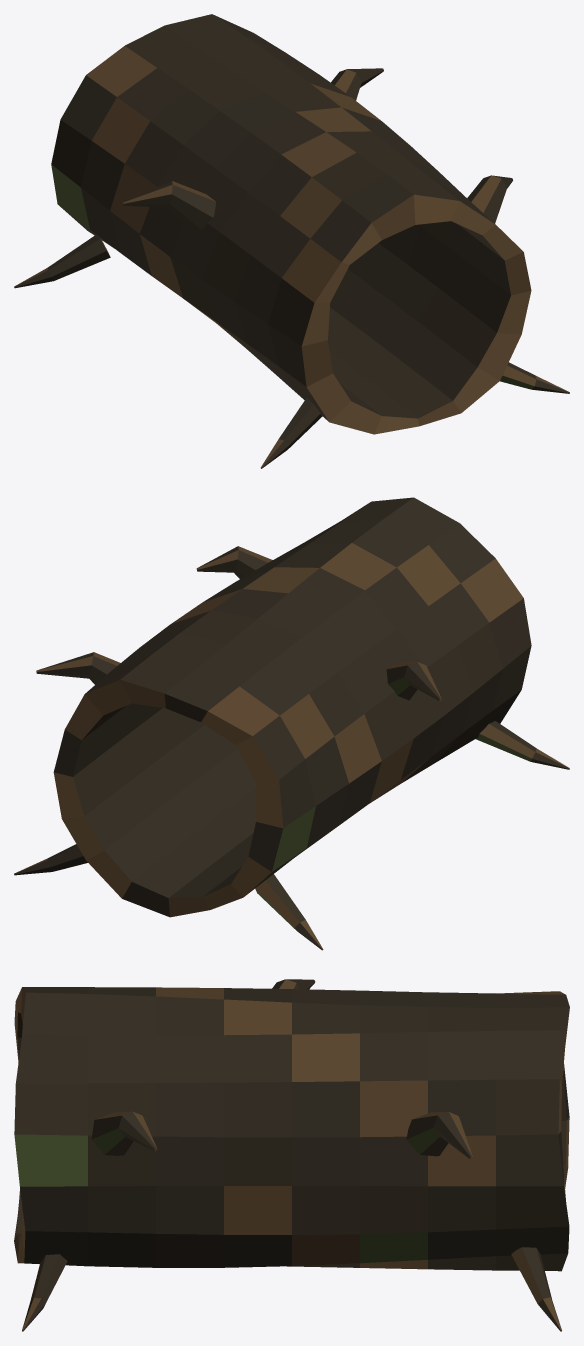
The model's file is wood_002a_hero_hollow_trunk.glb.
3 views of the same model, one above another, from view 1: azimuth 30°, elevation 25°; view 2: azimuth 150°, elevation 25°; view 3: azimuth 270°, elevation 25° (orthographic). The views are drawn at different scales.
Visible parts, largest first — view 1: wood_002a_hero_hollow_trunk__mesh; view 2: wood_002a_hero_hollow_trunk__mesh; view 3: wood_002a_hero_hollow_trunk__mesh.
Boxes of the visible parts, x1=… form: wood_002a_hero_hollow_trunk__mesh: x1=14, y1=14, x2=569, y2=468; wood_002a_hero_hollow_trunk__mesh: x1=14, y1=497, x2=569, y2=950; wood_002a_hero_hollow_trunk__mesh: x1=14, y1=979, x2=569, y2=1331.
Bounding box in the file's own units: 7.71 × 5.34 × 10.22.
